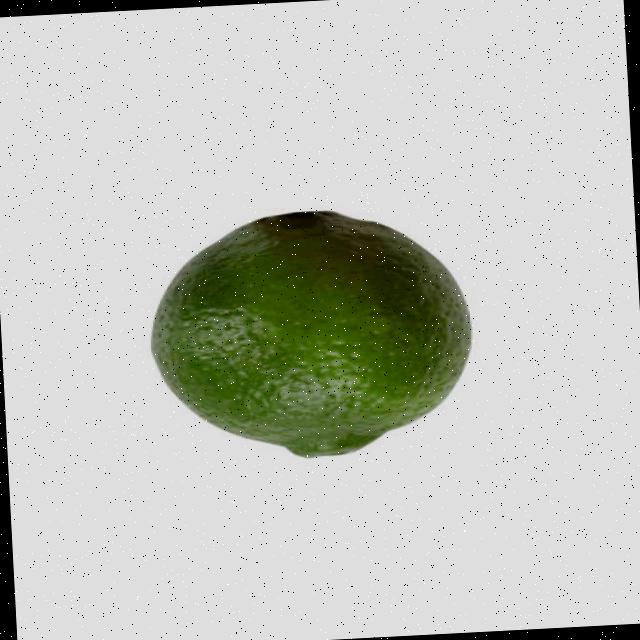Unripe: (142, 200, 480, 466)
